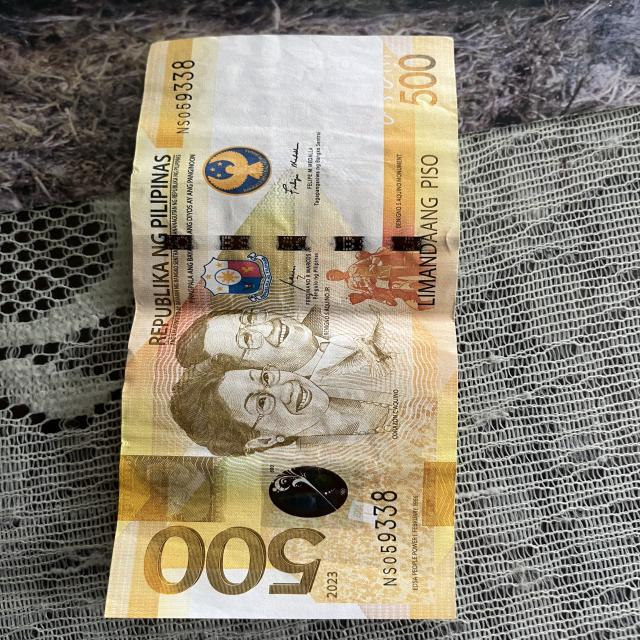concealed_value: (116, 454, 227, 521)
optically_variable_device: (262, 459, 362, 526)
security_thread: (135, 235, 457, 251)
see_through_mark: (375, 52, 400, 126)
serial_number: (164, 55, 198, 143), (371, 487, 398, 589)
value: (141, 521, 326, 595)
value_watermark: (304, 56, 353, 70)
watermark: (222, 54, 376, 136)
